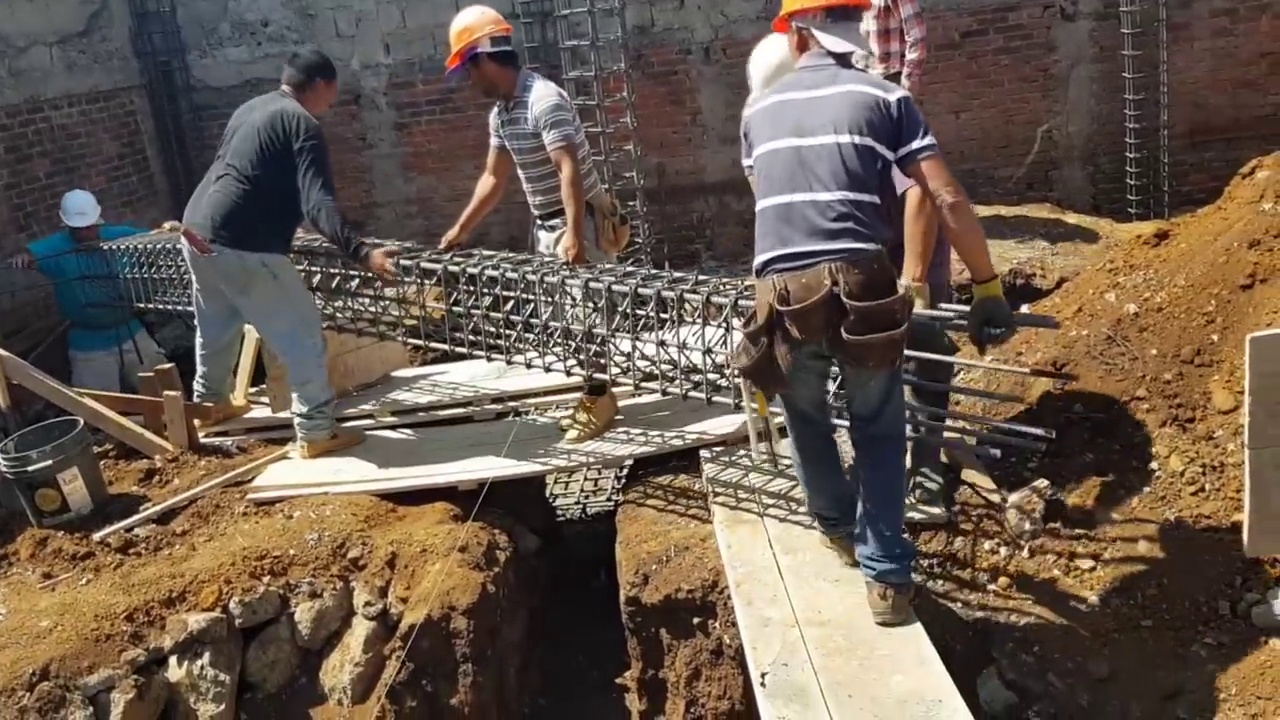helmet: (439, 8, 513, 71), (774, 0, 871, 31), (58, 190, 102, 227)
helmet-off: (276, 50, 338, 115)
helmet-on: (440, 23, 525, 112), (774, 0, 867, 64), (52, 188, 104, 240), (745, 34, 792, 91)
person: (723, 15, 986, 606), (187, 58, 404, 495), (433, 22, 621, 390), (24, 183, 146, 435), (865, 1, 926, 95)
